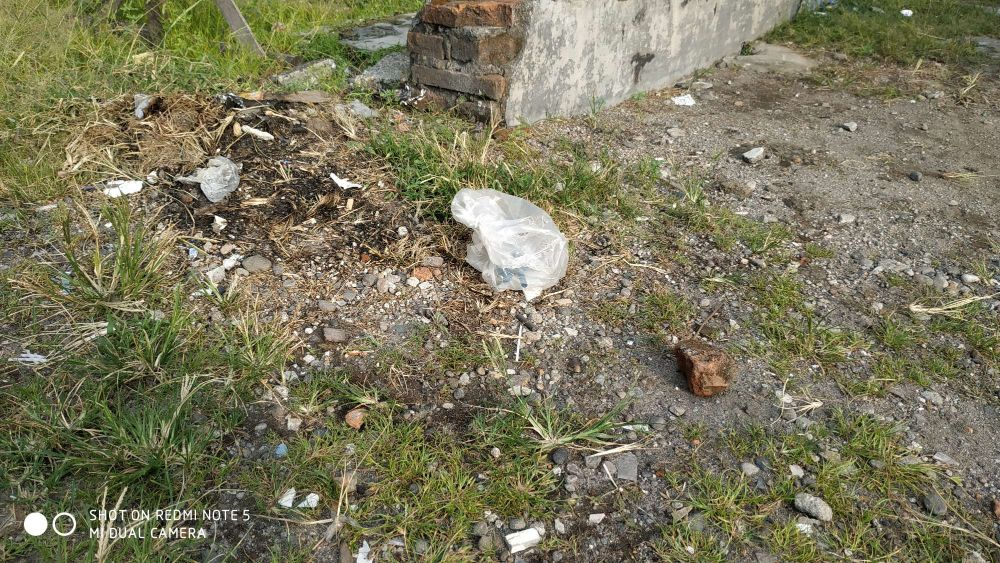plastik: (439, 184, 580, 308)
